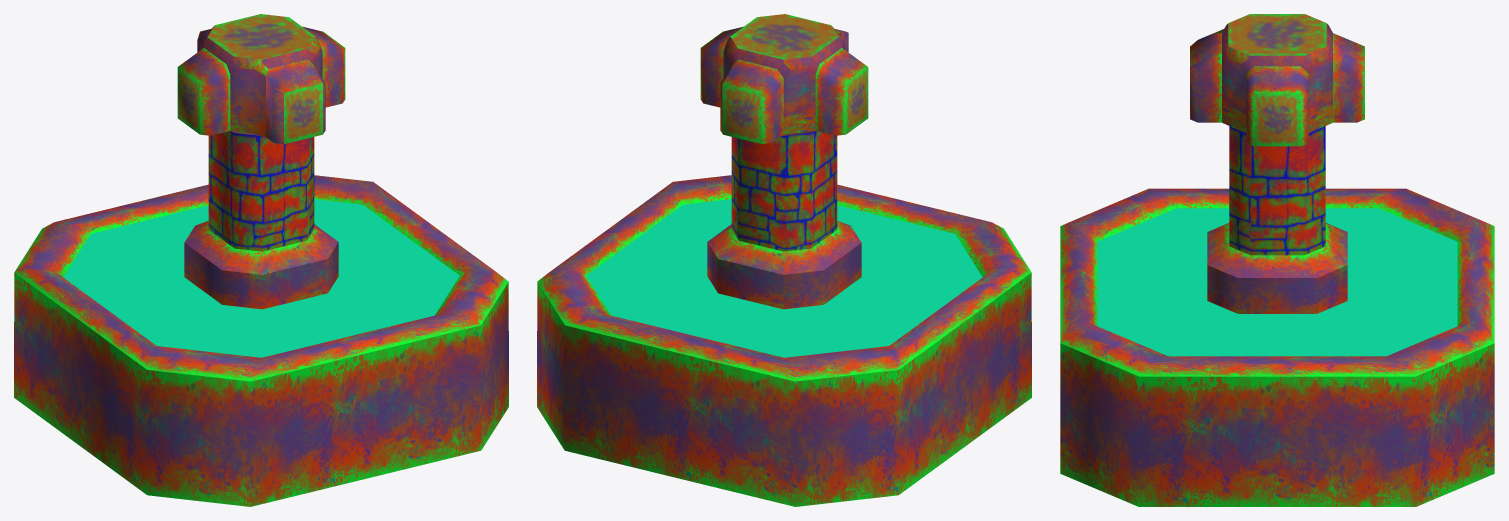
File: AO Fountain.fbx
3 renders of one model, left to right at view 1: azimuth 30°, elevation 25°; view 2: azimuth 150°, elevation 25°; view 3: azimuth 270°, elevation 25°, orthographic. The views are drawn at different scales.
Parts seen in each view (by area): view 1: Fountain; view 2: Fountain; view 3: Fountain.
Part boxes in pixels (left/top/right/bottom): Fountain: left=14, top=14, right=508, bottom=506; Fountain: left=537, top=14, right=1031, bottom=506; Fountain: left=1060, top=14, right=1494, bottom=506.
Size of the model in its own units: 1200 by 1159 by 1200.
